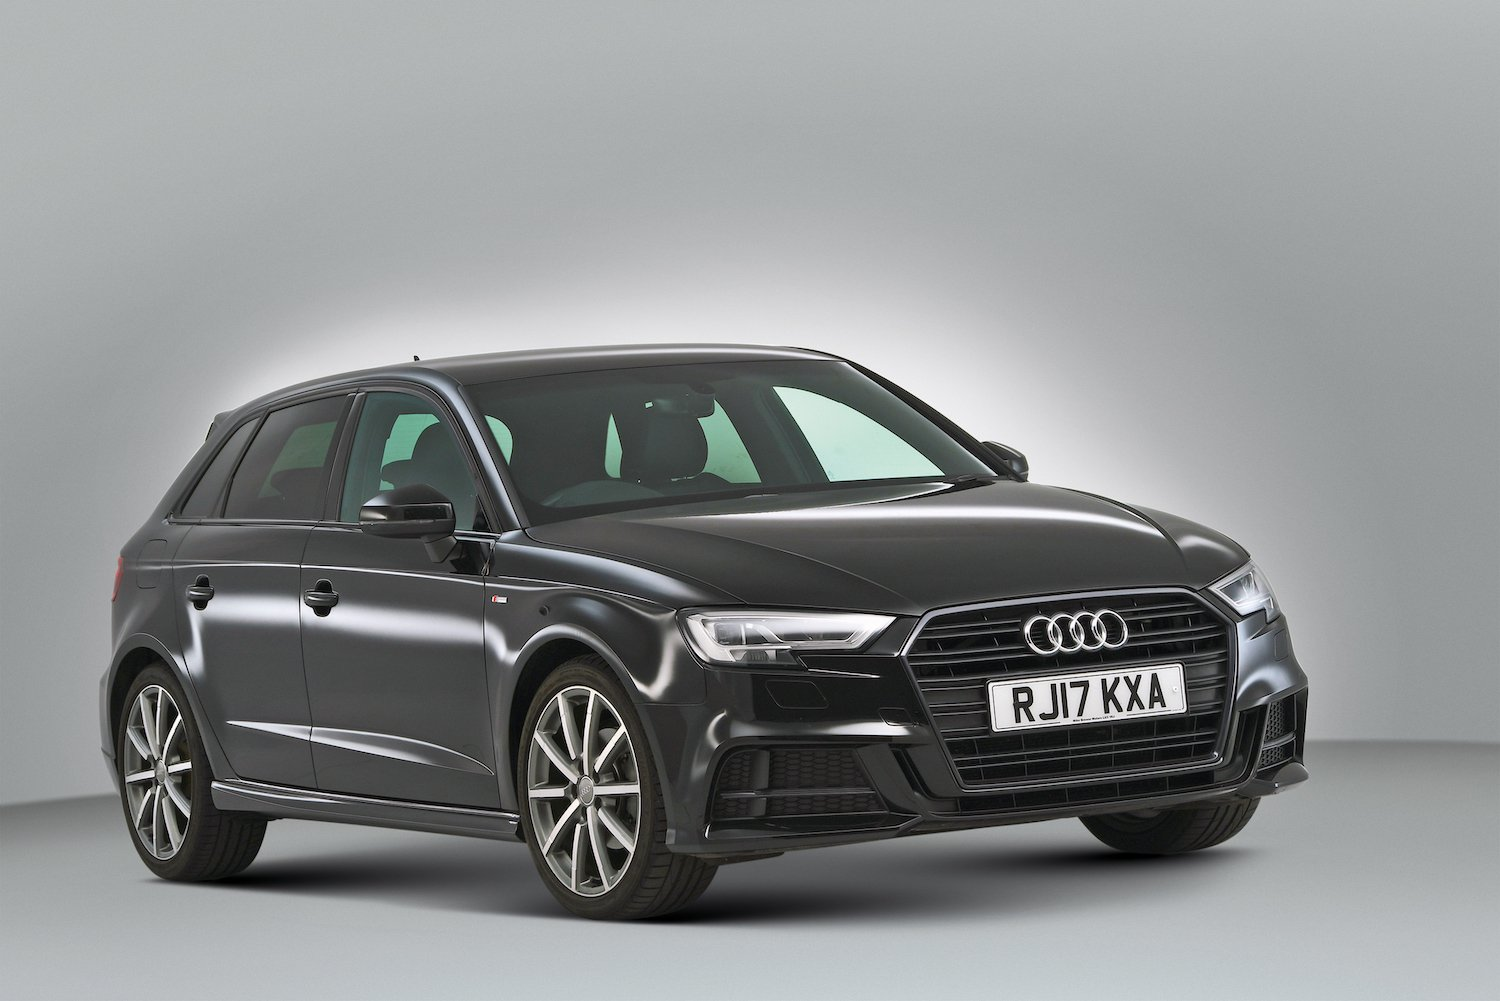car: (101, 325, 1313, 894)
